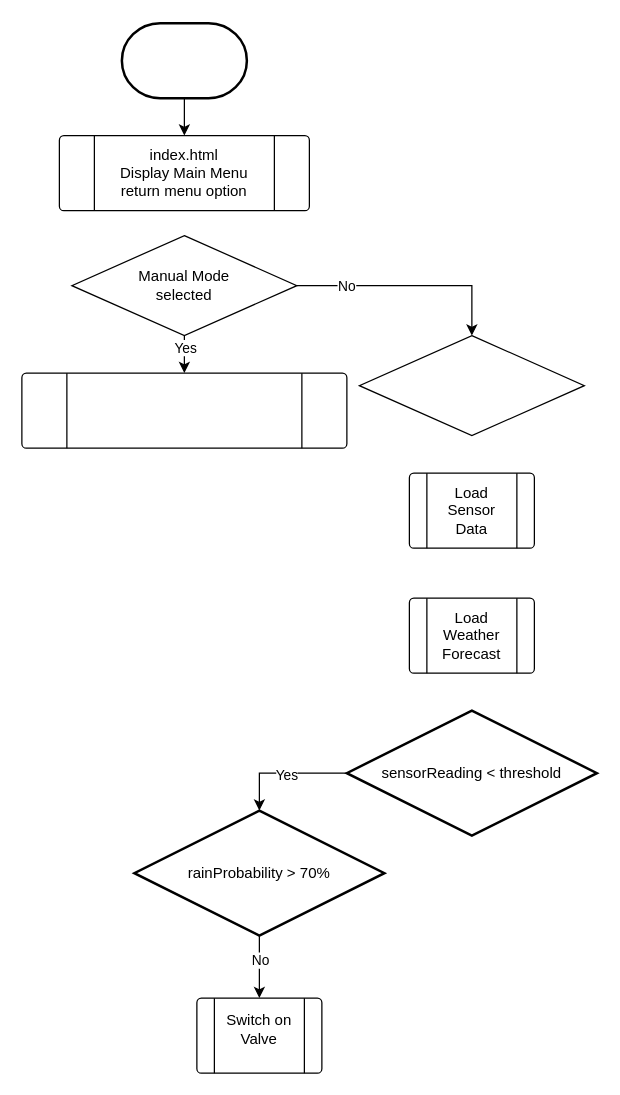
The diagram is 620 pixels wide and 1095 high, and some of its shapes have lost their labels. The shapes that lost their labels are listed below. From the top down, each one's centre as x and y in pixels, then its label:
(x=184, y=60): Open Smart Irrigation Control Web App
(x=471, y=385): Smart Mode selected
(x=184, y=410): Enter watering cycle (days, start time, end time)
